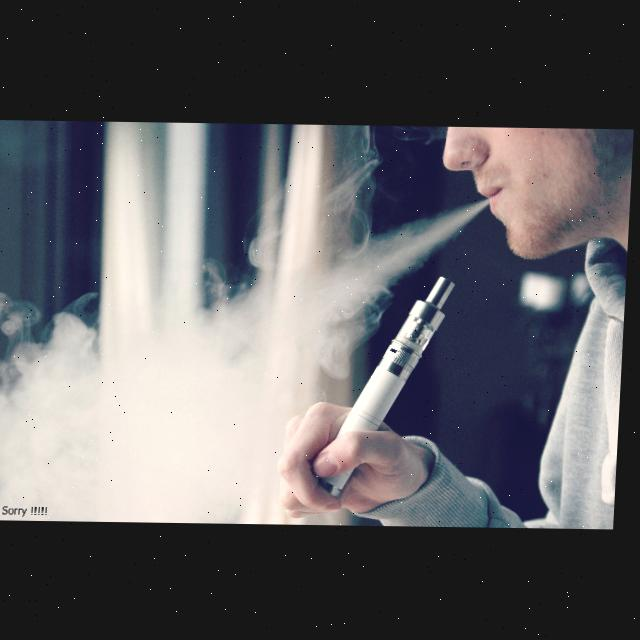vape: (319, 274, 458, 499)
